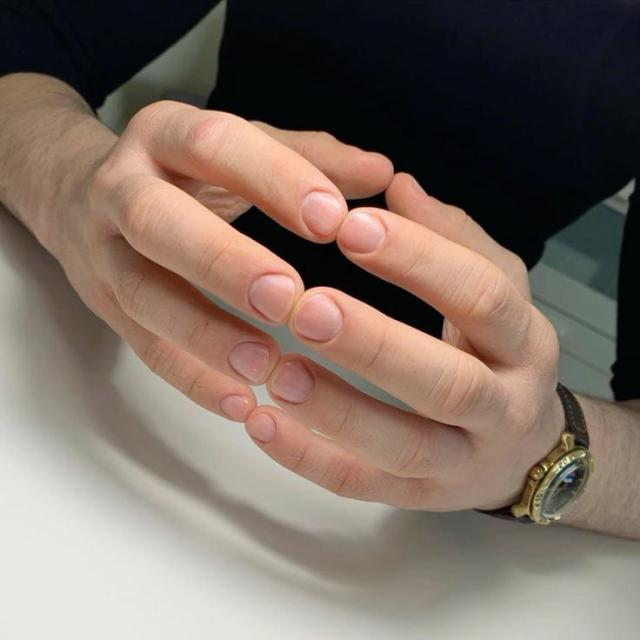Fingernail: (294, 294, 343, 342), (249, 274, 295, 322), (340, 211, 384, 253), (302, 191, 343, 235), (271, 361, 314, 402), (229, 342, 269, 382), (248, 413, 275, 442), (220, 395, 248, 421)
